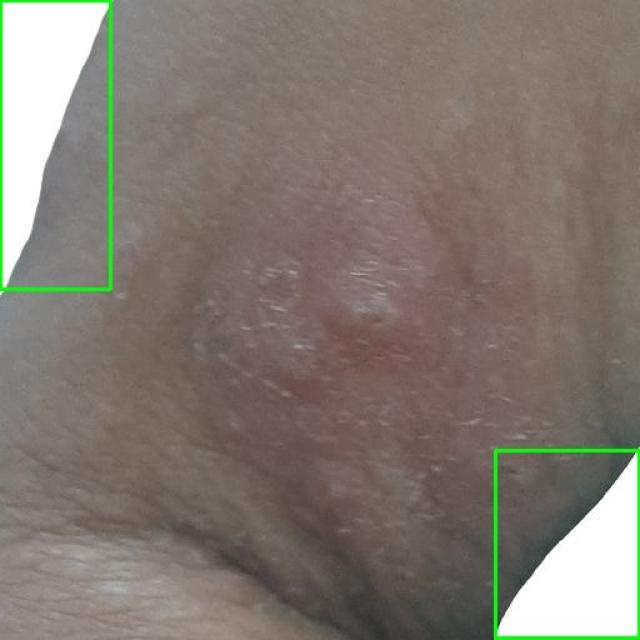Scabies: (0, 0, 110, 289), (495, 451, 639, 639)
